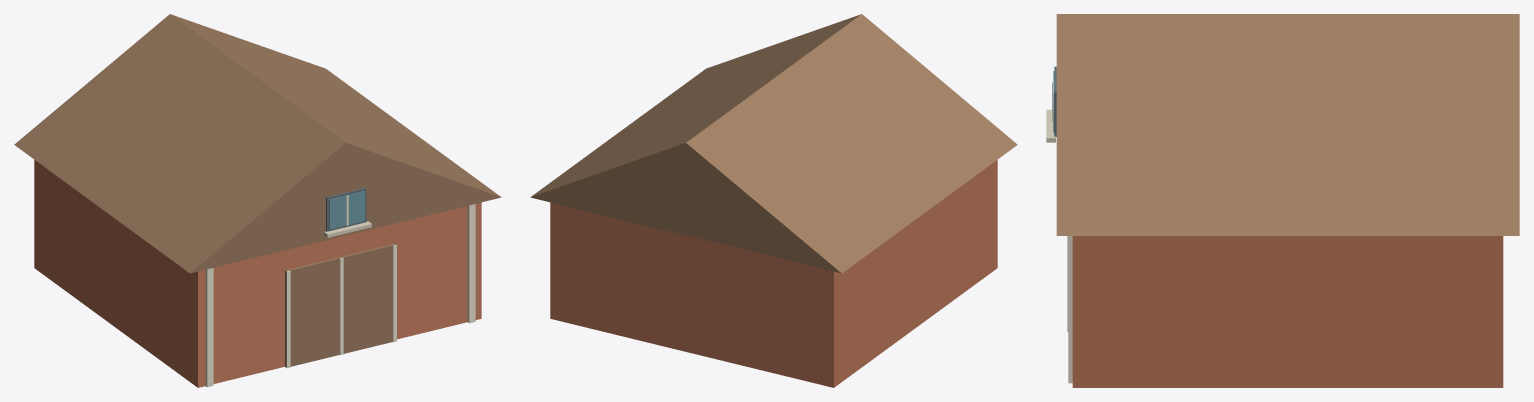
File: gable-barn.glb
The picture shows the model from 3 angles, left to right: view 1: azimuth 30°, elevation 25°; view 2: azimuth 150°, elevation 25°; view 3: azimuth 270°, elevation 25°; orthographic projection. The views are drawn at different scales.
Bounding box in the file's own units: 8.8 × 5.8 × 8.79.
